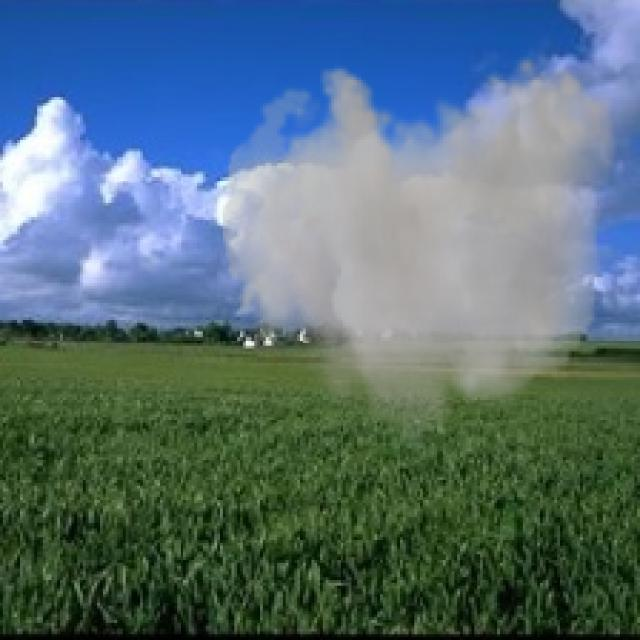smoke: (223, 54, 617, 457)
